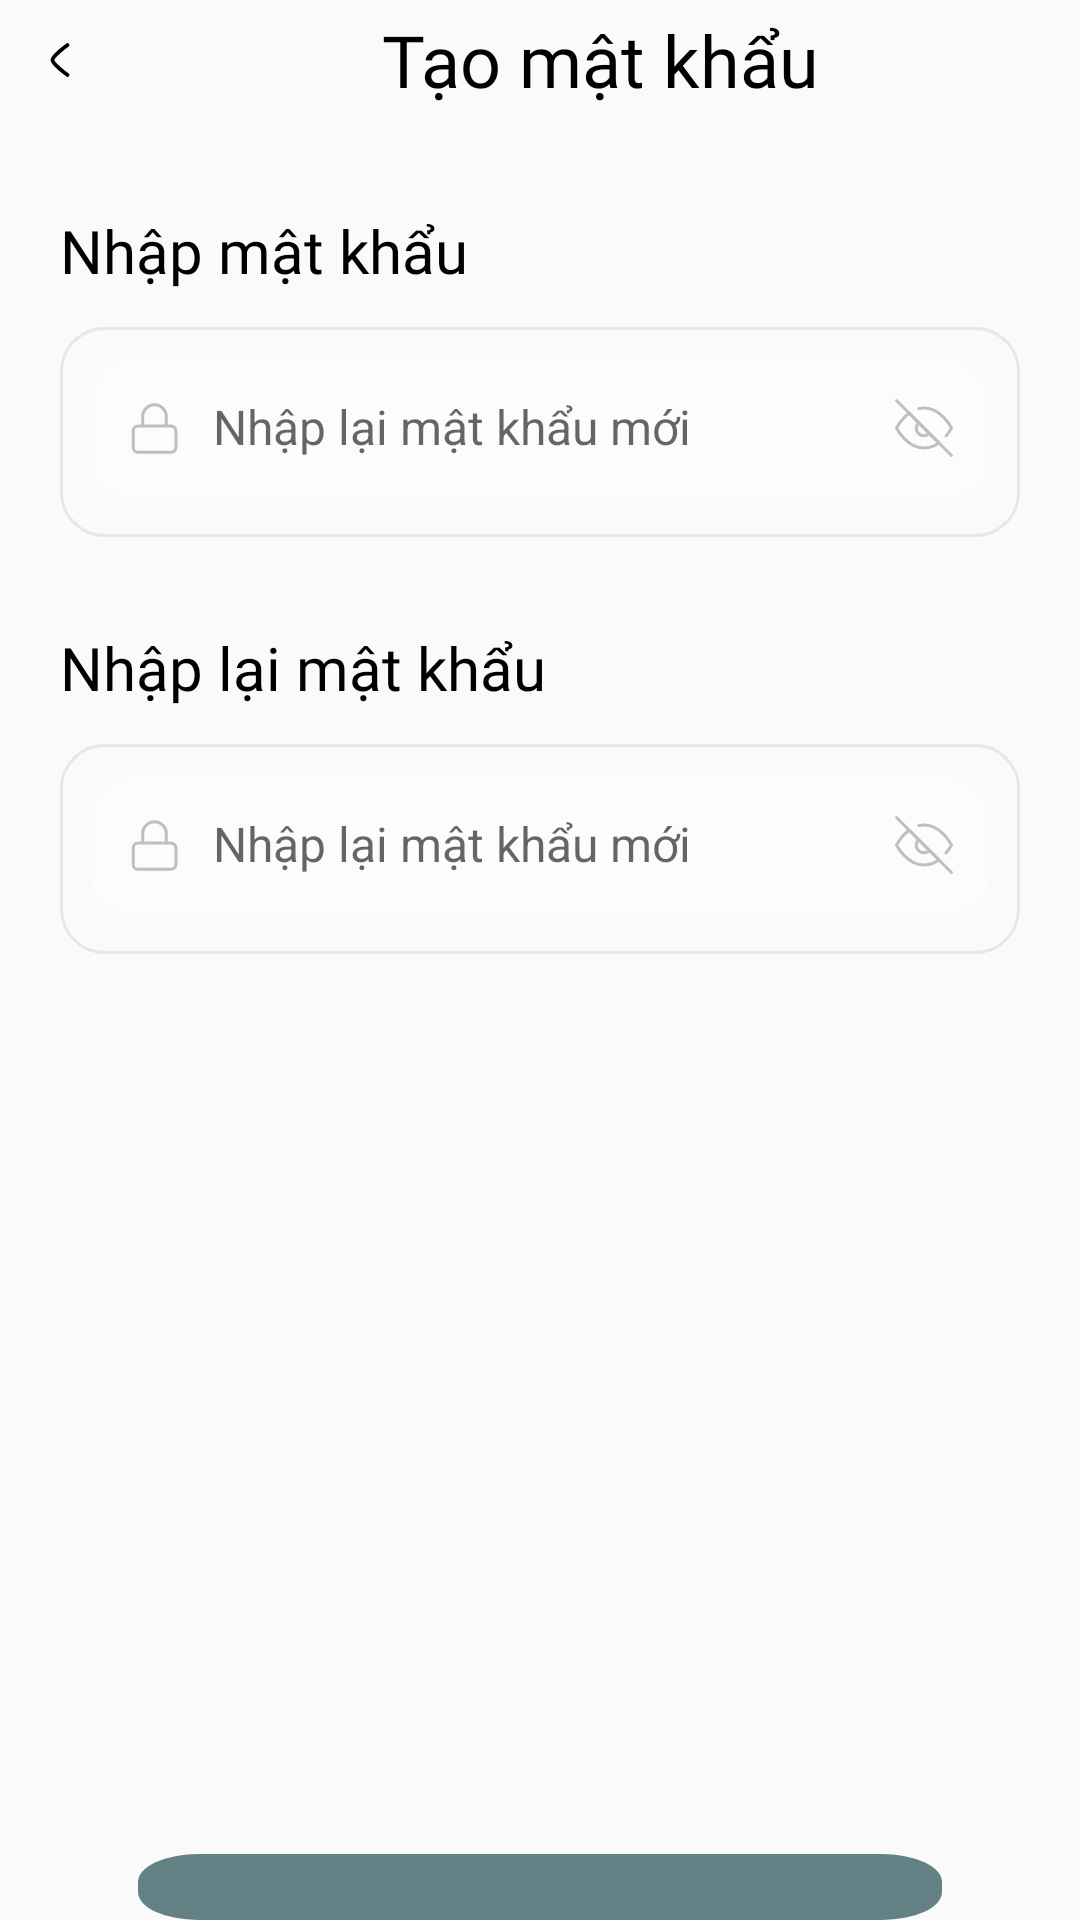

Where to tap for icons on this 1080px×1920px app screen, as (x=x, y=y):
back: (x=60, y=60)
